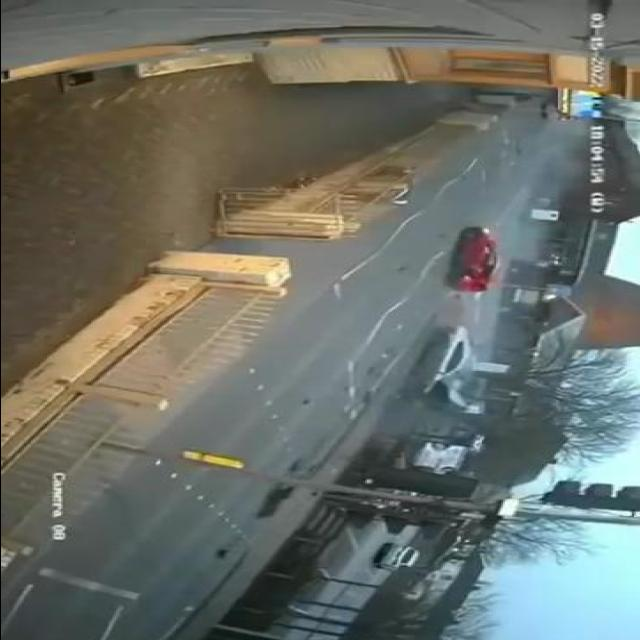accident: (386, 320, 498, 417), (436, 224, 512, 295)
